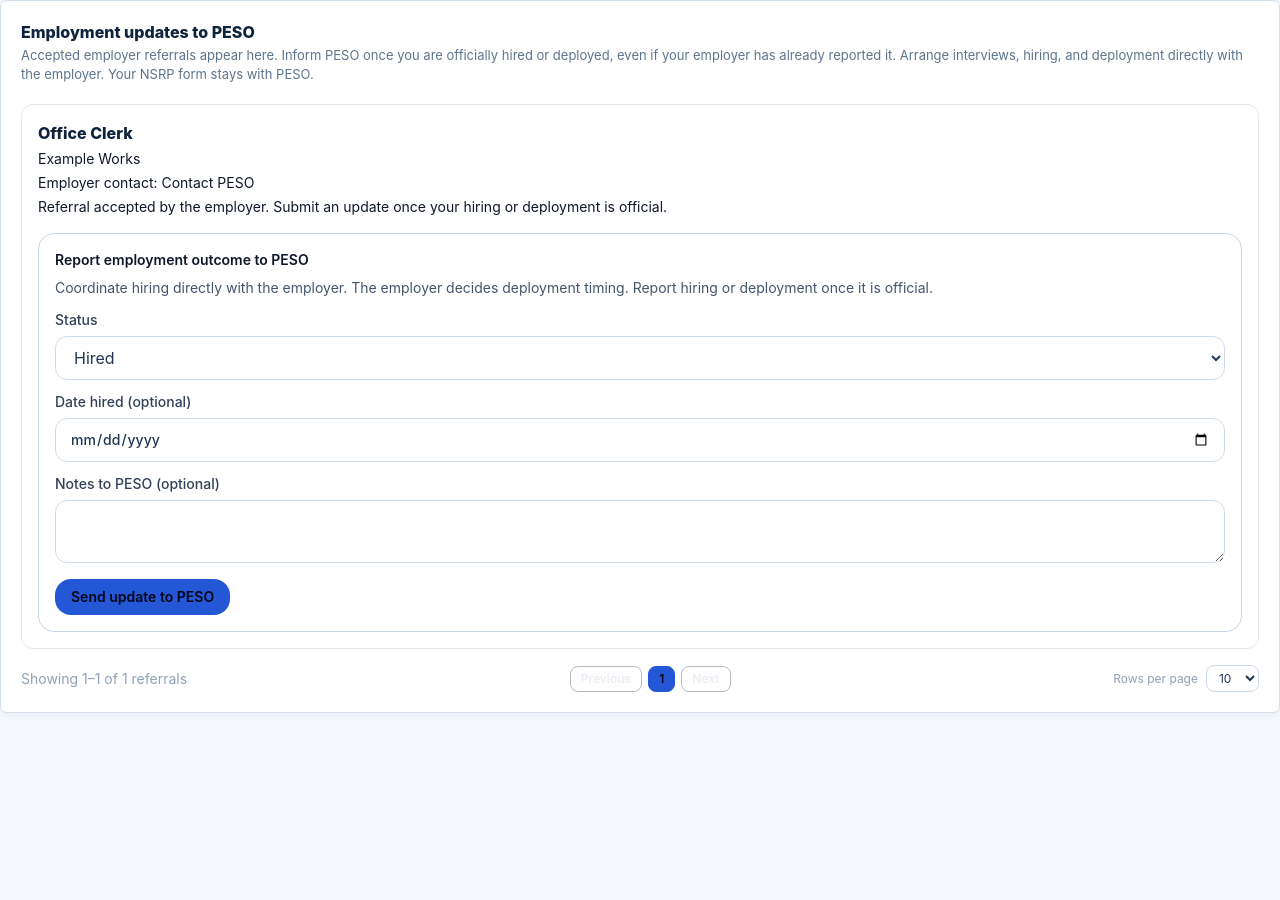
it: employment updates › replaces successful submissions with a summary and allows editing or reporting deployment
Expected: the button "Send update to PESO" is shown, [55, 579, 230, 615]
Type "2026-10-30" into the date field labelled "Date hired (optional)" at (640, 440), box [55, 418, 1225, 462]
Type "Offer accepted." into the text box labelled "Notes to PESO (optional)" at (640, 532), box [55, 500, 1225, 563]
Click the button "Send update to PESO" at (143, 597), box [55, 579, 230, 615]
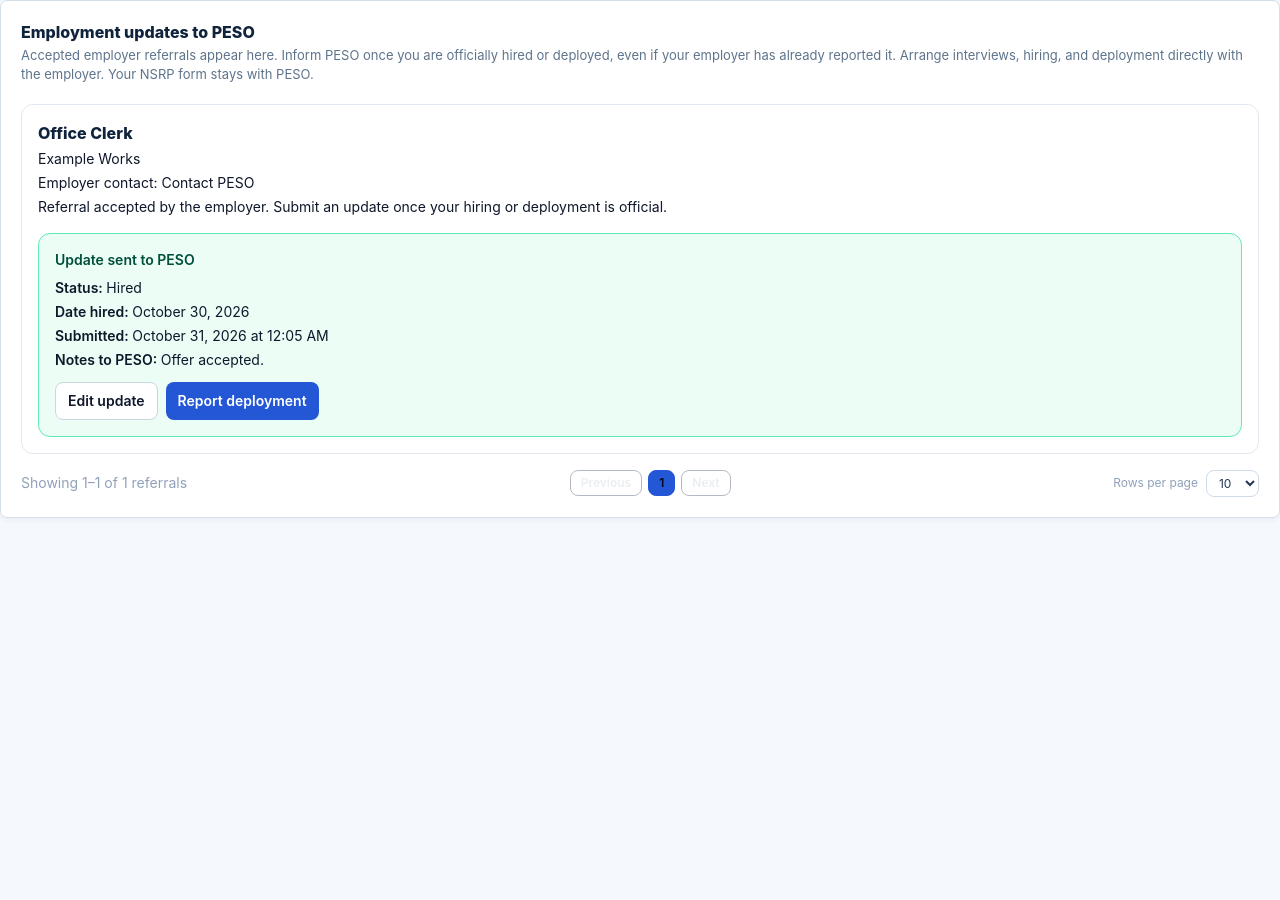
Result: the text "Update sent to PESO" is shown at [55, 250, 195, 268]
Result: the text "October 30, 2026" is shown at [132, 302, 250, 320]
Result: the text "October 31, 2026 at 12:05 AM" is shown at [132, 326, 329, 344]
Click the button "Edit update" at (106, 400), box [55, 382, 158, 420]
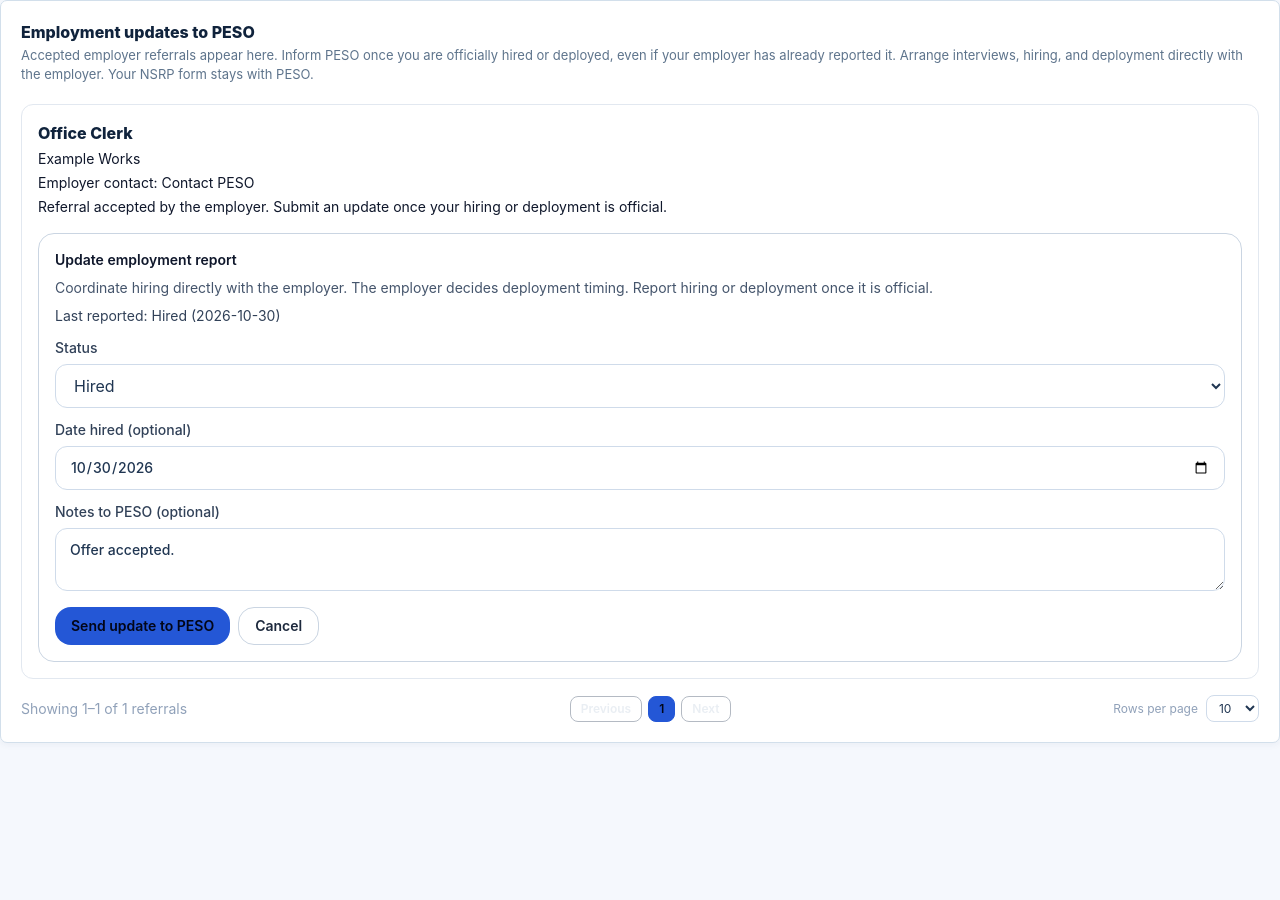
Result: the date field labelled "Date hired (optional)" holds "2026-10-30" at [55, 446, 1225, 490]
Result: the text box labelled "Notes to PESO (optional)" holds "Offer accepted." at [55, 528, 1225, 591]
Click the button "Cancel" at (279, 626), box [238, 607, 319, 645]
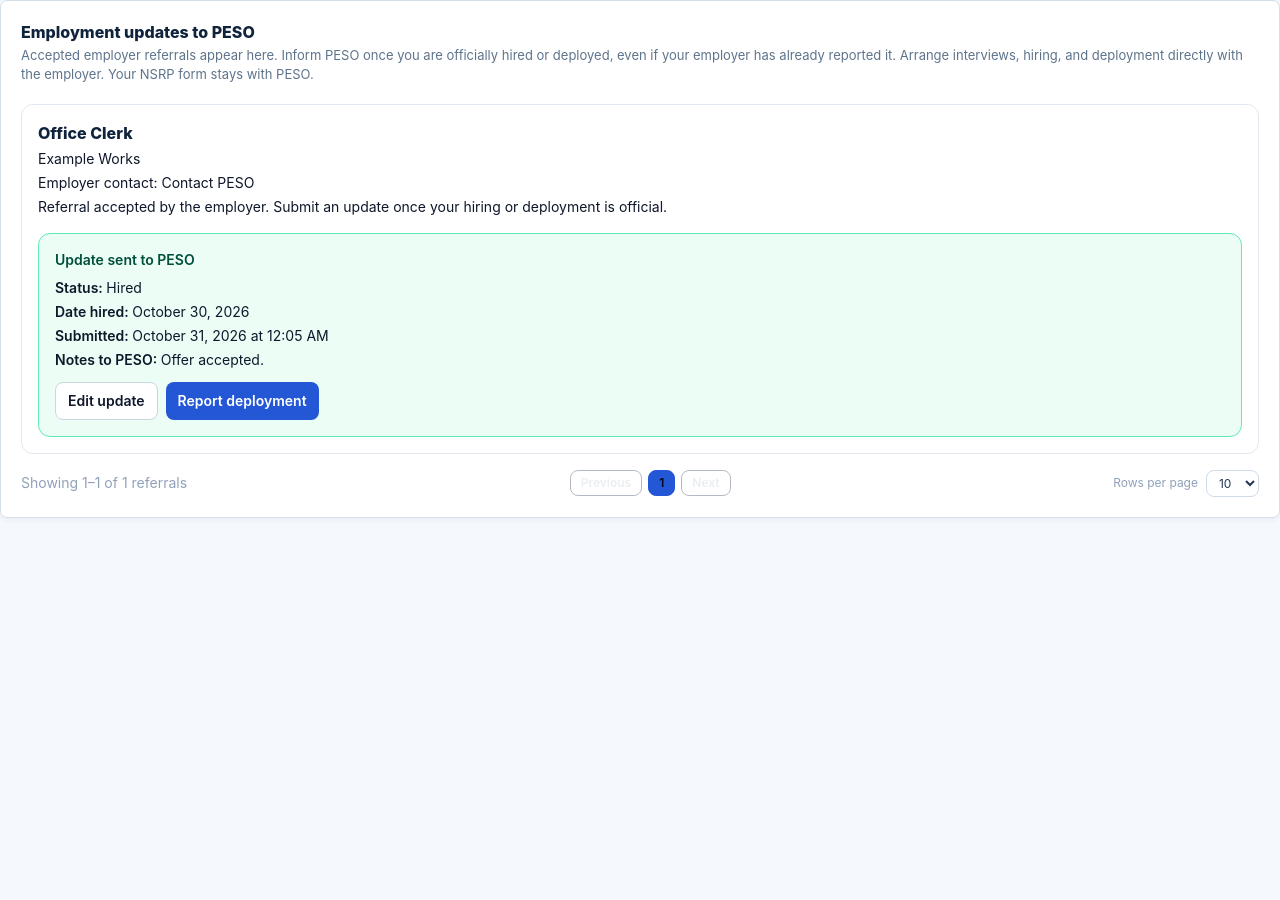
Click the button "Report deployment" at (242, 400), box [166, 382, 319, 420]
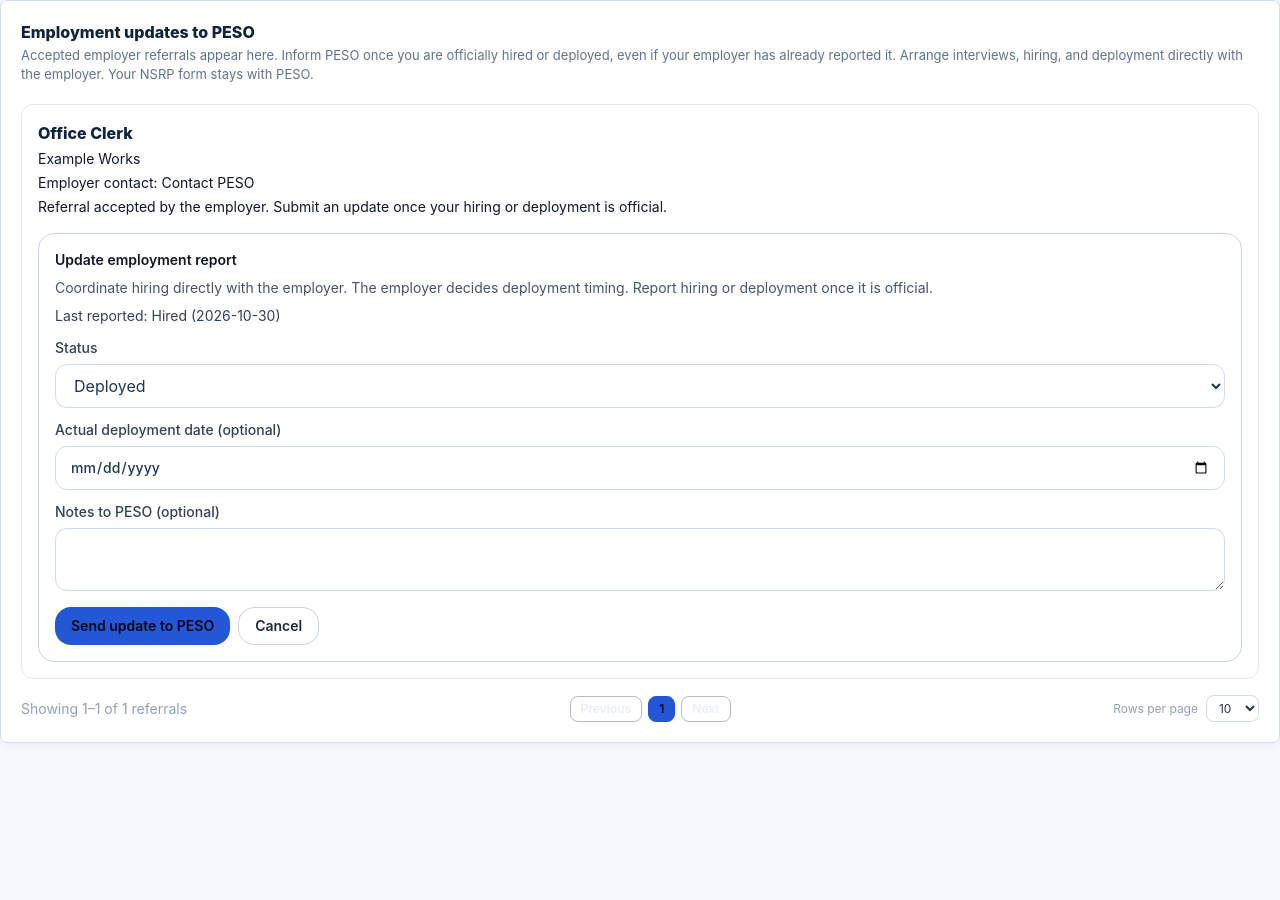
Result: the dropdown labelled "Status" shows "Deployed" at [55, 364, 1225, 408]
Result: the date field labelled "Actual deployment date (optional)" is empty
Type "2026-10-31" into the date field labelled "Actual deployment date (optional)" at (640, 468), box [55, 446, 1225, 490]
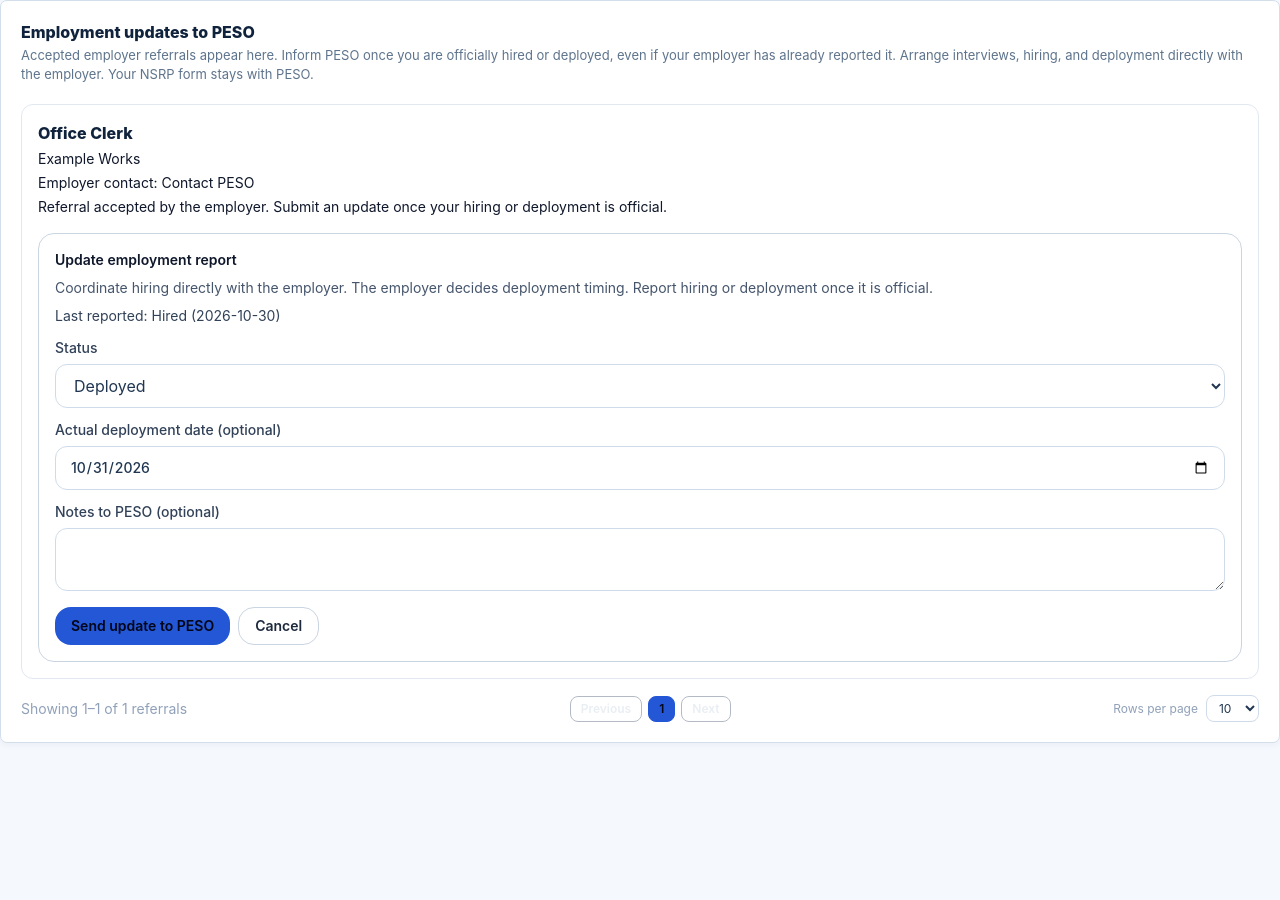
Click the button "Send update to PESO" at (143, 626), box [55, 607, 230, 645]
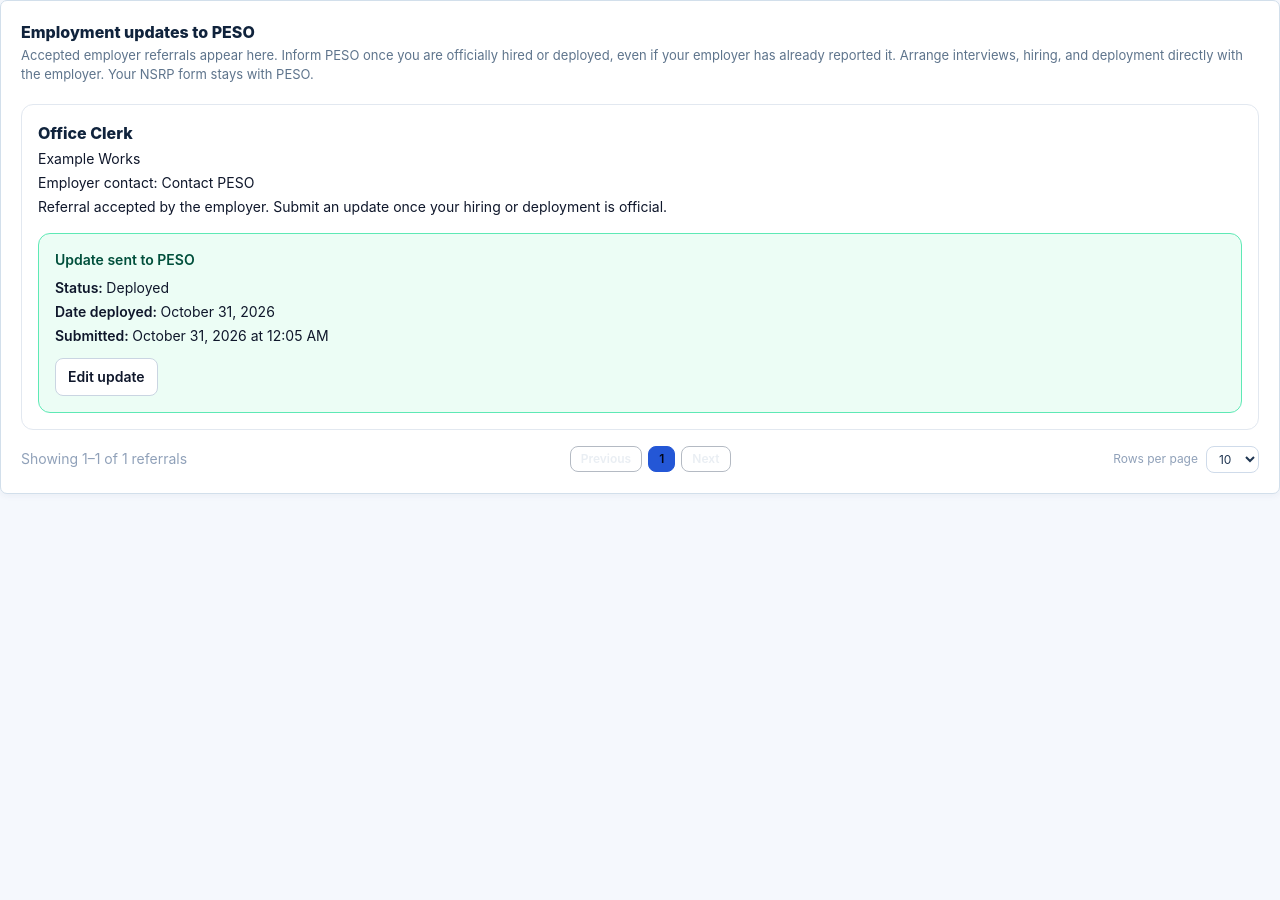
Result: the text "Update sent to PESO" is shown at [55, 250, 195, 268]
Result: the text "Deployed" is shown at [106, 278, 169, 296]
Result: the button "Edit update" is shown at [55, 358, 158, 396]
